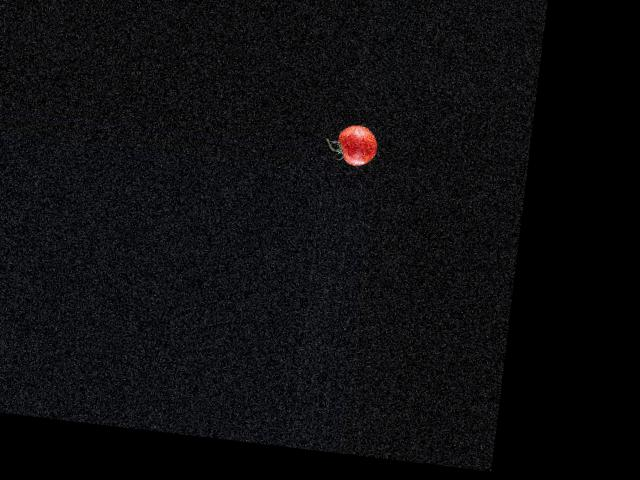tomato: (335, 122, 379, 167)
